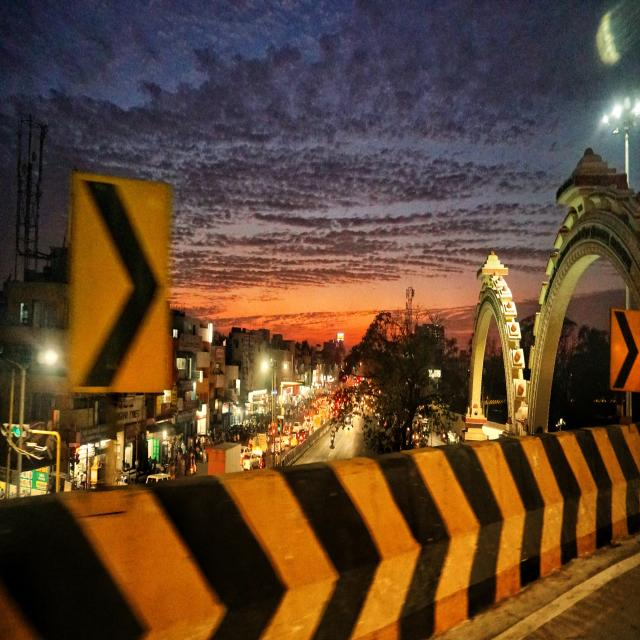Street Light: (20, 349, 60, 499), (264, 363, 288, 465)
